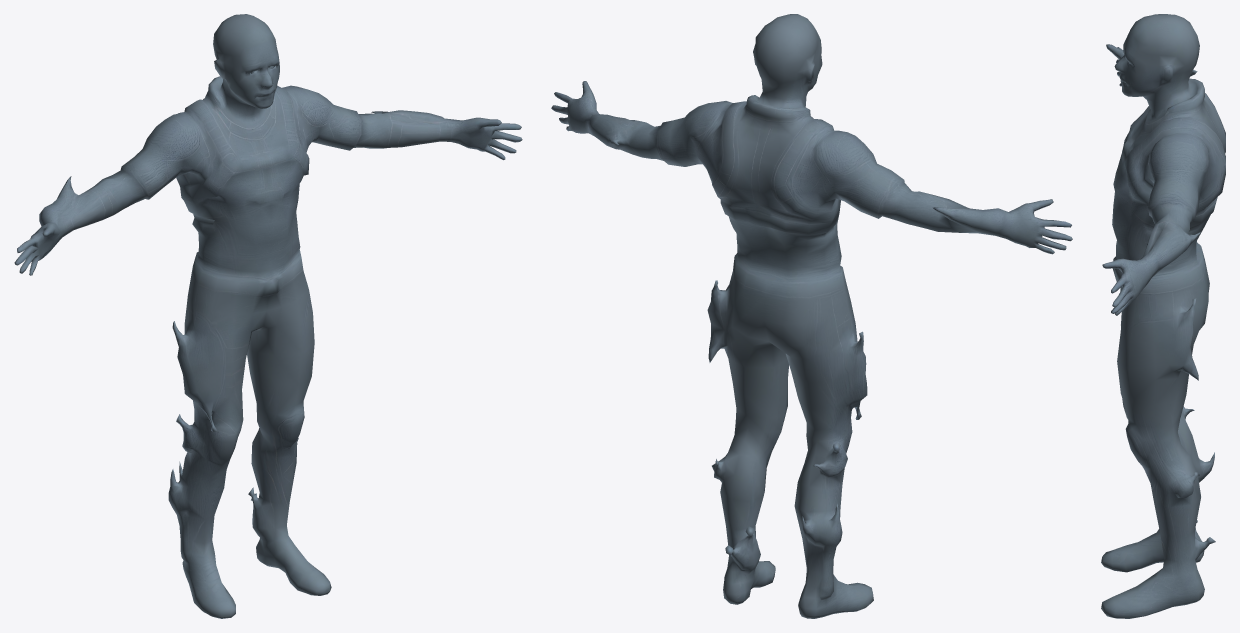
3 renders of one model, left to right at view 1: azimuth 30°, elevation 25°; view 2: azimuth 150°, elevation 25°; view 3: azimuth 270°, elevation 25°, orthographic. The views are drawn at different scales.
Visible parts, largest first — view 1: tripo_node_3962cddf-3978-44c3-9973-34c9c404a694; view 2: tripo_node_3962cddf-3978-44c3-9973-34c9c404a694; view 3: tripo_node_3962cddf-3978-44c3-9973-34c9c404a694.
Boxes of the visible parts, x1=… form: tripo_node_3962cddf-3978-44c3-9973-34c9c404a694: x1=14, y1=14, x2=522, y2=618; tripo_node_3962cddf-3978-44c3-9973-34c9c404a694: x1=551, y1=14, x2=1072, y2=618; tripo_node_3962cddf-3978-44c3-9973-34c9c404a694: x1=1101, y1=14, x2=1225, y2=618.
Size of the model in its own units: 0.9277 by 0.998 by 0.1973.
Materials: 1 (1 with a texture image).
